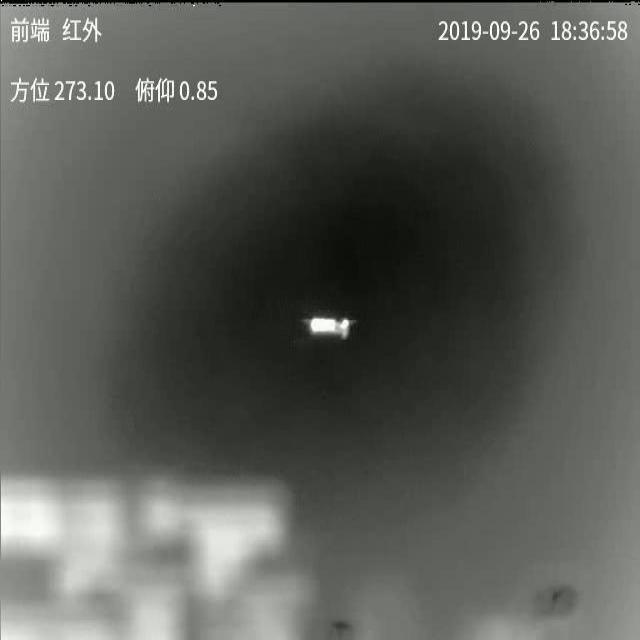drone: (301, 316, 357, 339)
